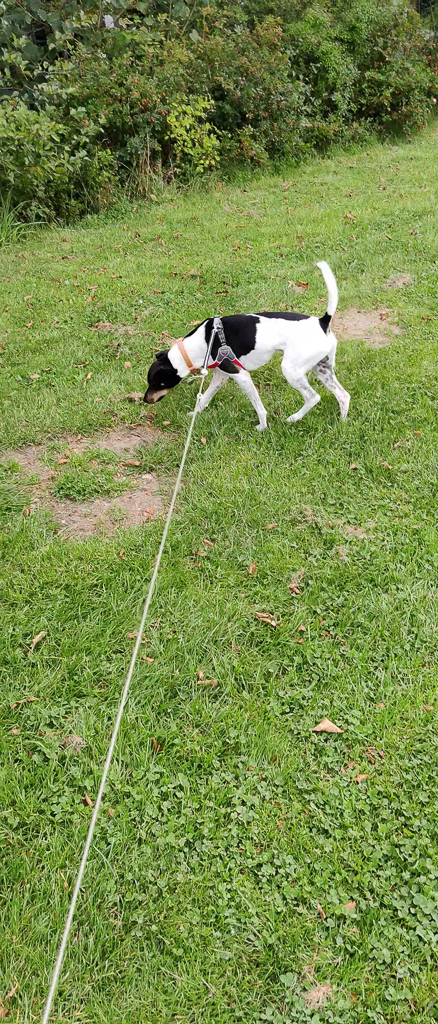Dog: (135, 249, 364, 434)
